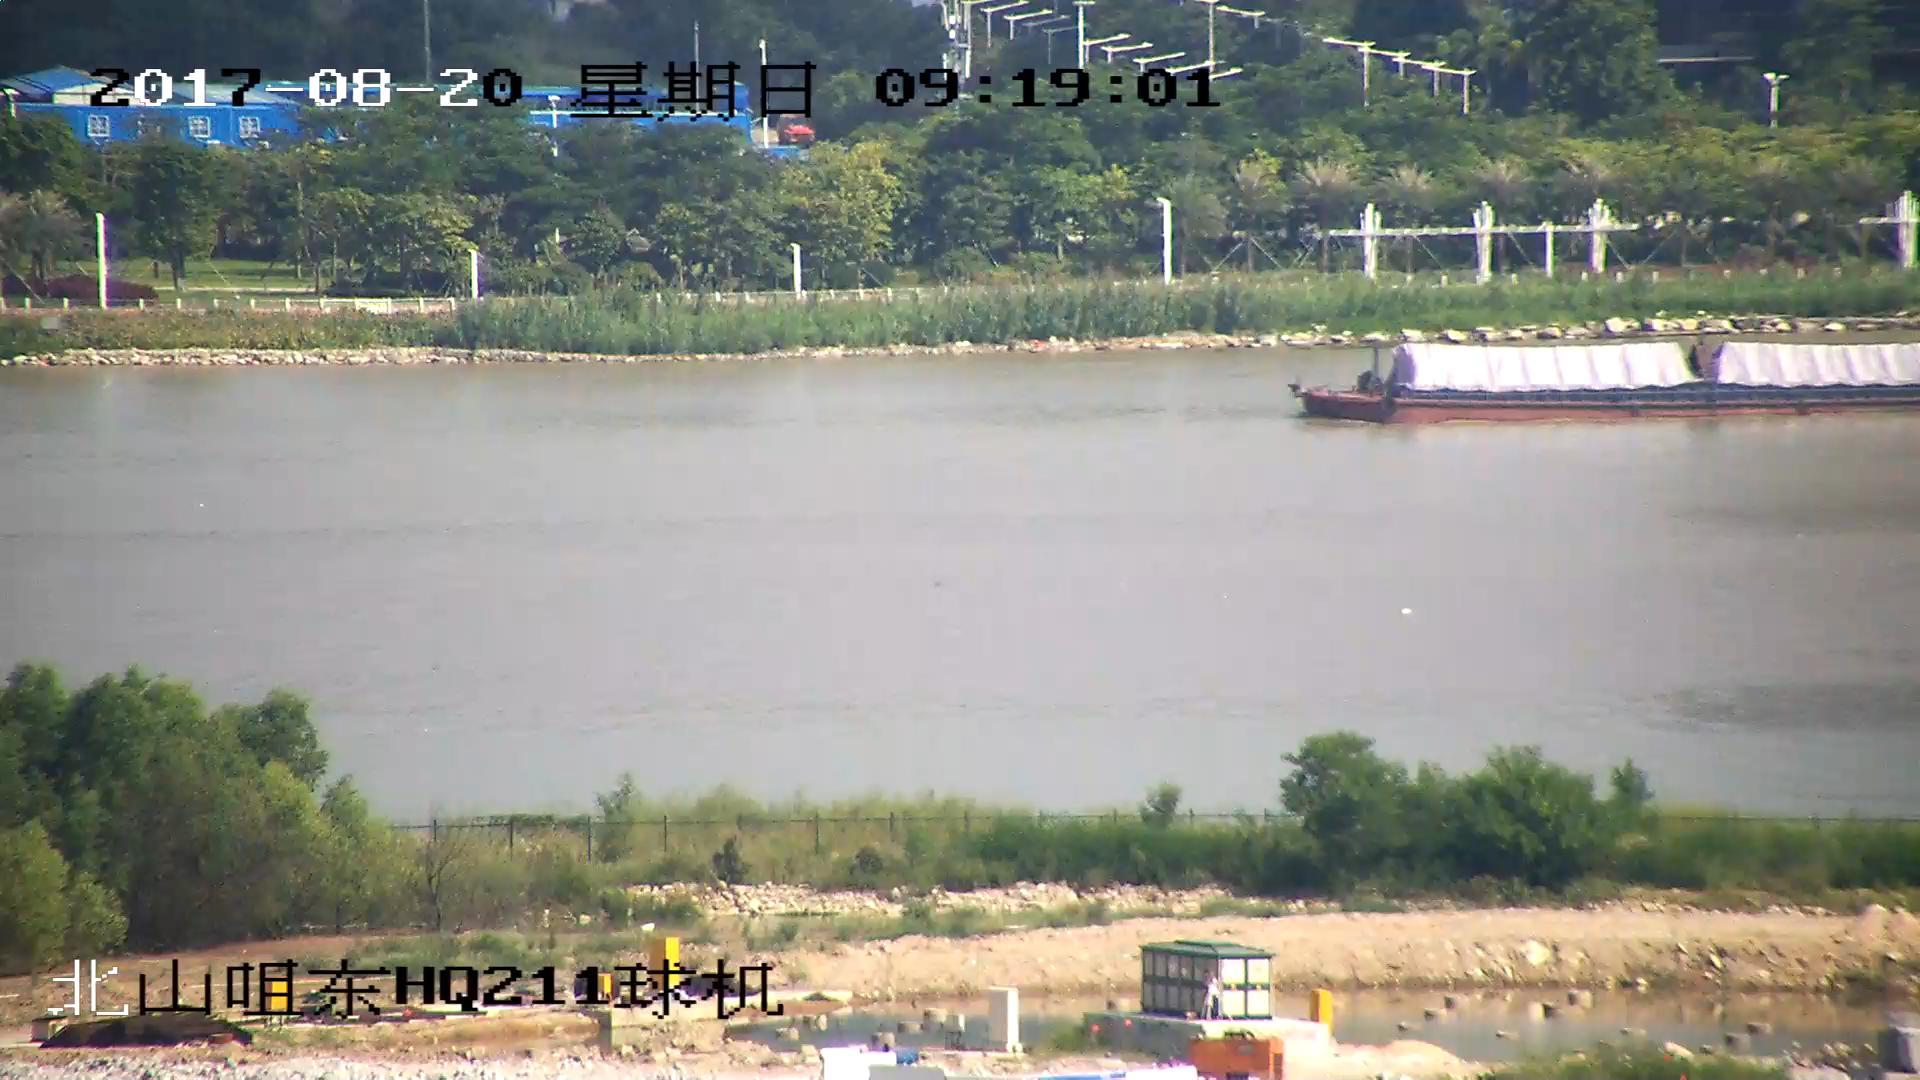Ship: (1298, 331, 1920, 429)
